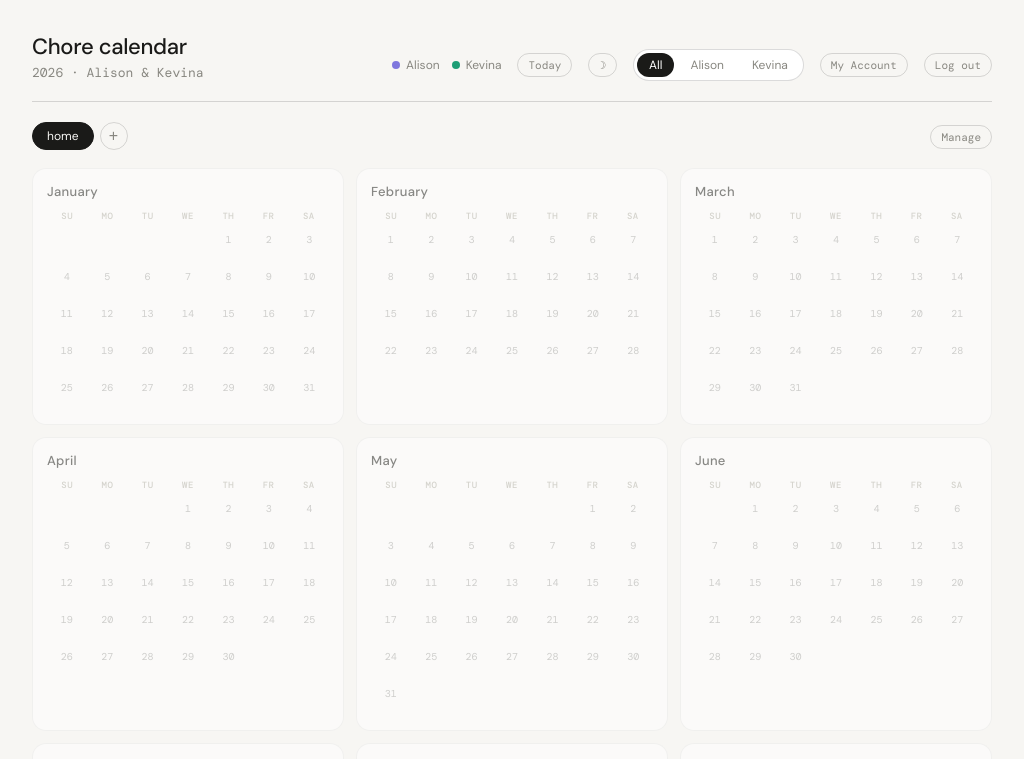
it: App › close button dismisses the detail panel
Check: the text "January" is shown, box [47,183,98,200]
Click the button "1" below "January" at {"x": 228, "y": 240}, box [225,233,231,246]
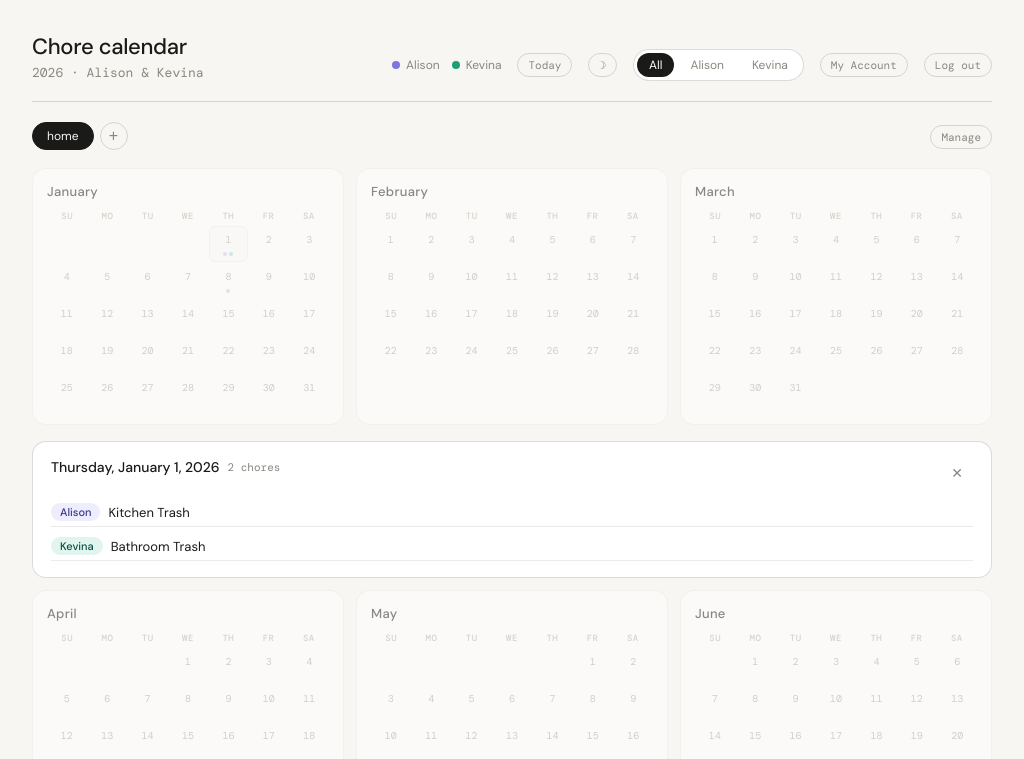
Check: the text "Kitchen Trash" is shown, box [108,504,190,520]
Click the button named "Close detail panel" at {"x": 957, "y": 473}, box [941,458,973,488]
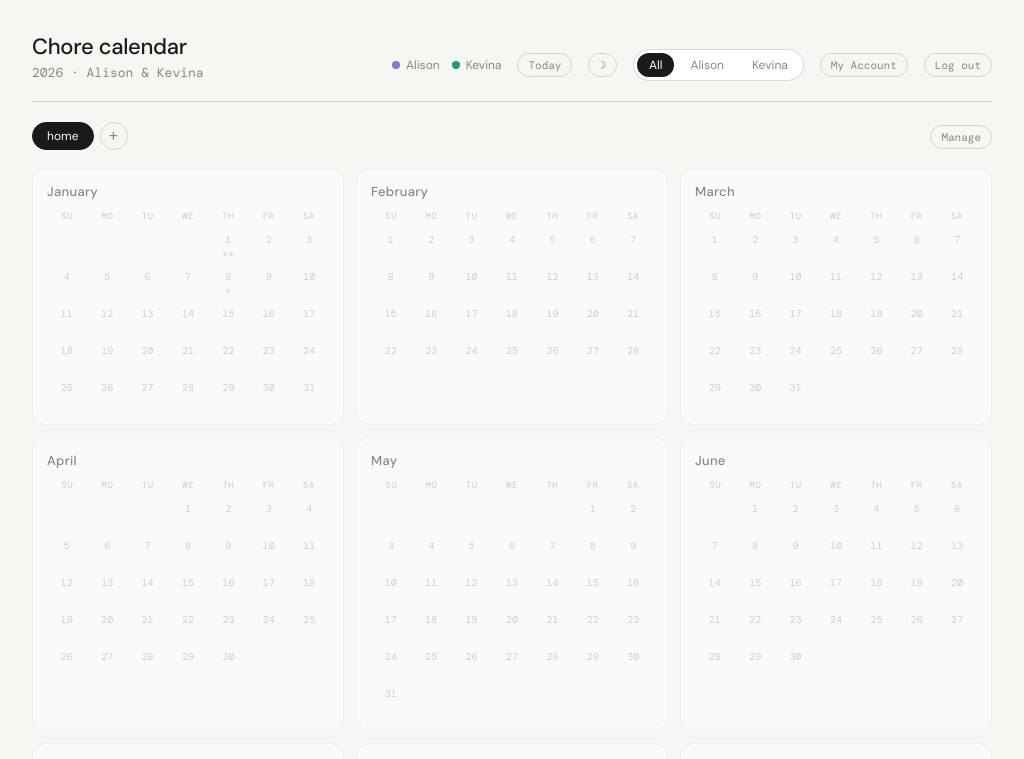
Check: the text "Kitchen Trash" is gone
